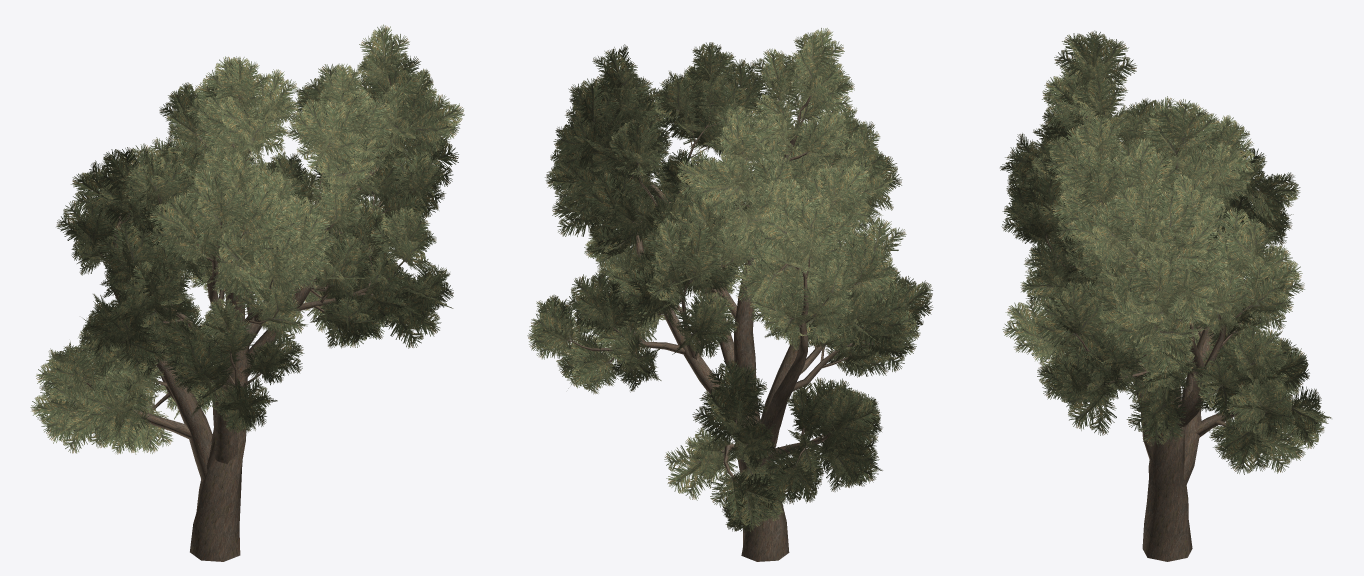
File: pinyon.glb
3 views of the same model, side by side, from view 1: azimuth 30°, elevation 25°; view 2: azimuth 150°, elevation 25°; view 3: azimuth 270°, elevation 25° (orthographic). The views are drawn at different scales.
Visible parts, largest first — view 1: eztree-pinyon; view 2: eztree-pinyon; view 3: eztree-pinyon.
Boxes of the visible parts, bbox=[...] form: eztree-pinyon: bbox=[30, 24, 464, 561]; eztree-pinyon: bbox=[527, 28, 933, 561]; eztree-pinyon: bbox=[1000, 30, 1331, 561].
Bounding box in the file's own units: 4.87 × 6 × 3.8.
Materials: 2 (2 with a texture image).
